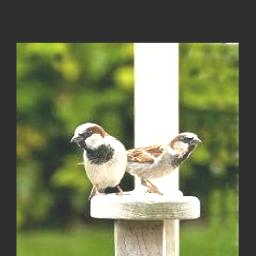Sparrow: (77, 131, 203, 195), (70, 122, 131, 195)
